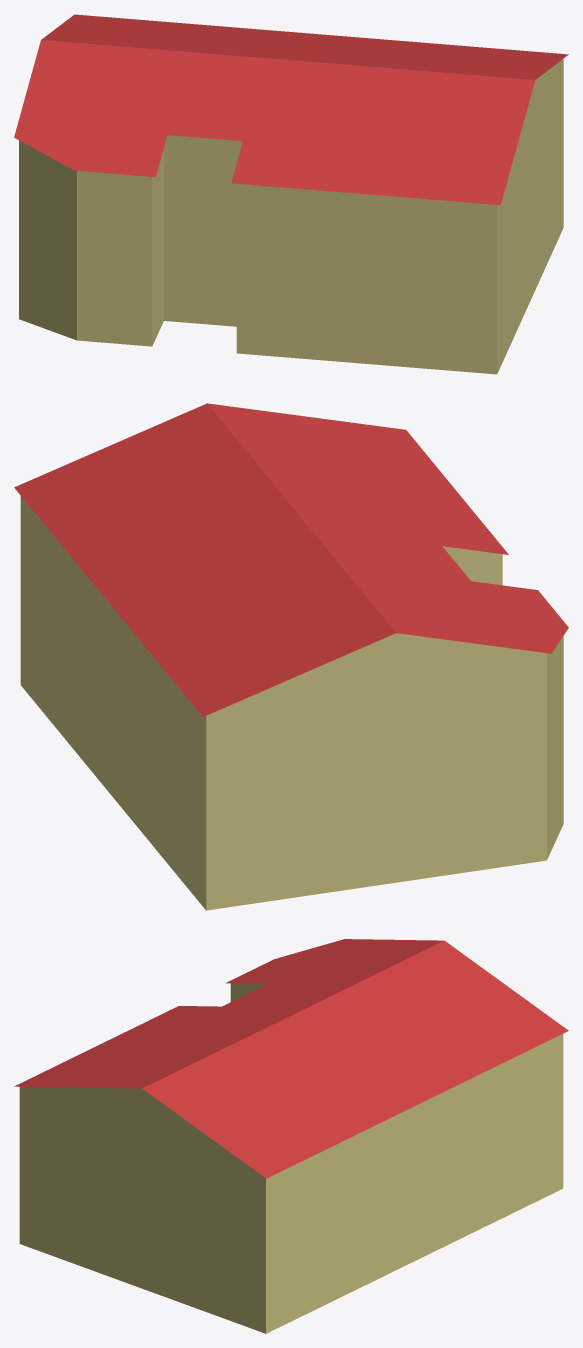
The picture shows the model from 3 angles, top to bottom: view 1: azimuth 30°, elevation 25°; view 2: azimuth 150°, elevation 25°; view 3: azimuth 270°, elevation 25°; orthographic projection. The views are drawn at different scales.
Bounding box in the file's own units: 32.89 × 33.56 × 13.51.
